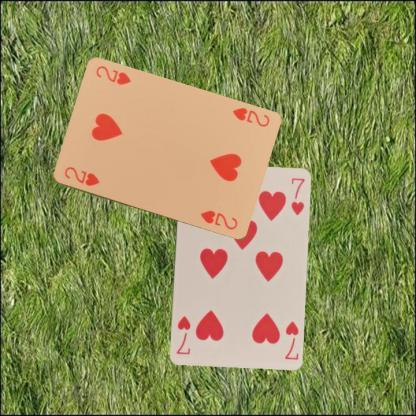2h: (61, 164, 101, 188), (230, 105, 270, 128)
7h: (282, 318, 300, 360)
